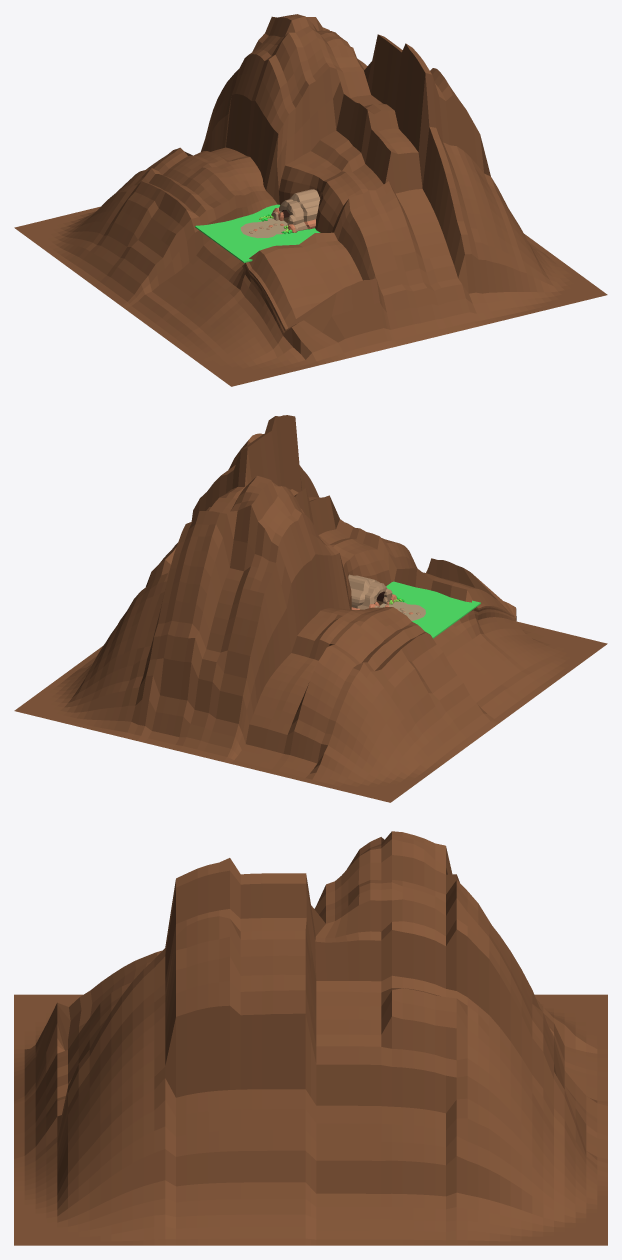
File: estructura campamento beta.fbx
3 renders of one model, top to bottom at view 1: azimuth 30°, elevation 25°; view 2: azimuth 150°, elevation 25°; view 3: azimuth 270°, elevation 25°, orthographic. The views are drawn at different scales.
Parts seen in each view (by area): view 1: montaña, suelo, cueva base beta; view 2: montaña, suelo, cueva base beta; view 3: montaña.
Boxes of the visible parts, left/top/right/bottom form: montaña: left=14, top=14, right=607, bottom=386; suelo: left=195, top=204, right=320, bottom=262; cueva base beta: left=271, top=189, right=320, bottom=232; montaña: left=14, top=415, right=607, bottom=802; suelo: left=379, top=581, right=480, bottom=638; cueva base beta: left=348, top=574, right=397, bottom=609; montaña: left=14, top=831, right=607, bottom=1245.
Size of the model in its own units: 77316 by 43937 by 77316.
